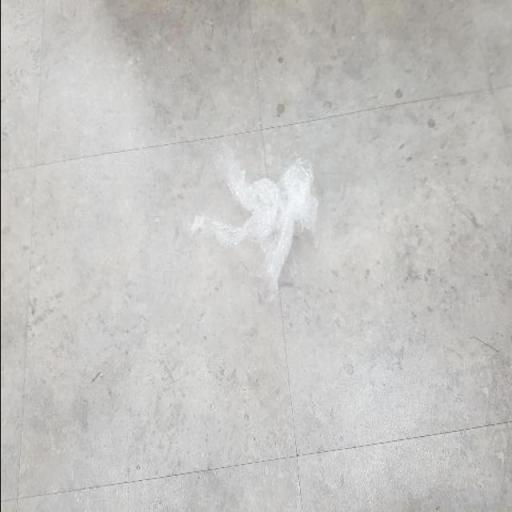plastic-bag: (184, 150, 320, 312)
